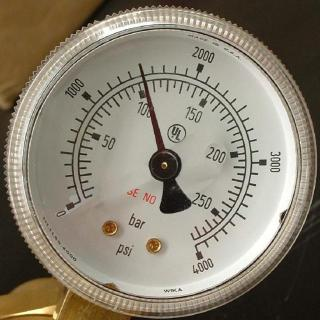gauge: (3, 4, 319, 318), (55, 185, 93, 223), (180, 228, 212, 268), (148, 147, 182, 181), (134, 59, 146, 73)
